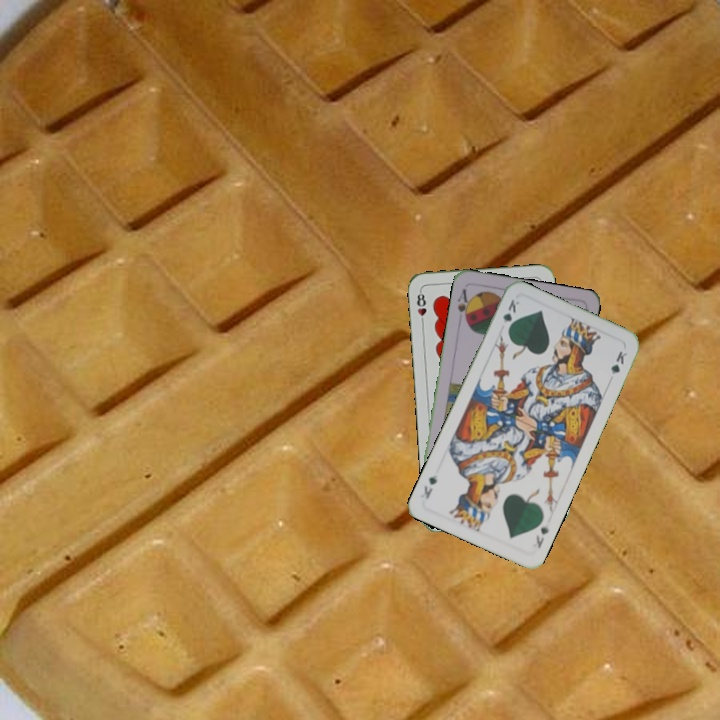GK: (499, 295, 522, 335), (532, 523, 551, 551)
H8: (413, 287, 429, 327)
SA: (453, 285, 474, 325)
